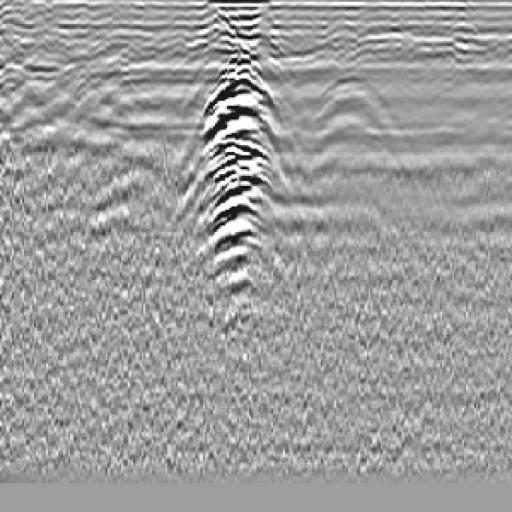metalic: (140, 38, 292, 322)
nonmetalic: (309, 64, 414, 216)
